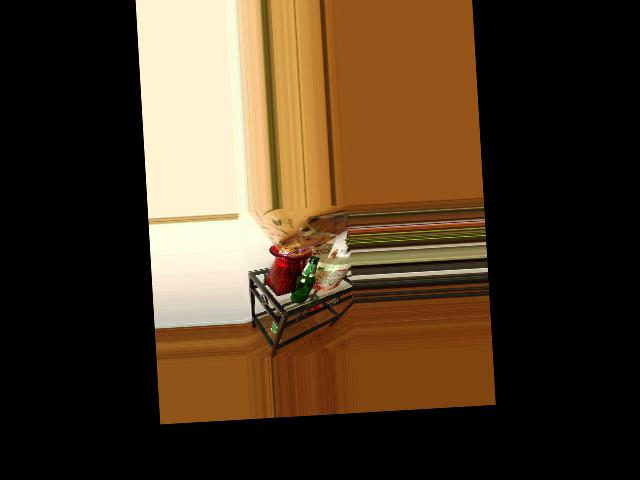beer: (288, 255, 321, 304)
